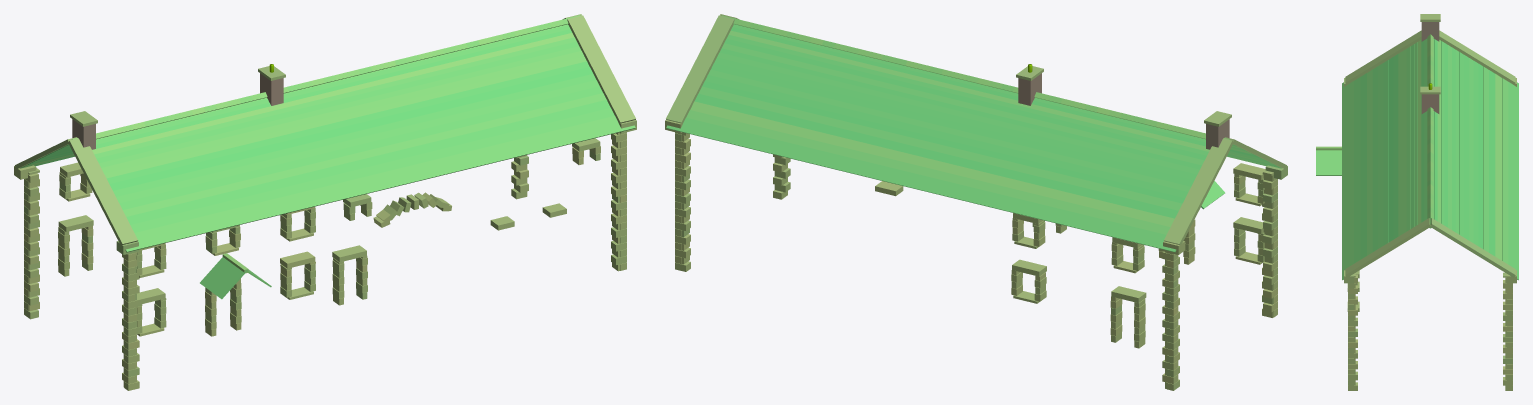
File: SM_Bld_062_Stone.glb
The picture shows the model from 3 angles, left to right: view 1: azimuth 30°, elevation 25°; view 2: azimuth 150°, elevation 25°; view 3: azimuth 270°, elevation 25°; orthographic projection. The views are drawn at different scales.
Visible parts, largest first — view 1: SM_Bld_062_Stone; view 2: SM_Bld_062_Stone; view 3: SM_Bld_062_Stone.
Part boxes in pixels (left/top/right/bottom): SM_Bld_062_Stone: left=14, top=14, right=636, bottom=390; SM_Bld_062_Stone: left=665, top=14, right=1287, bottom=390; SM_Bld_062_Stone: left=1316, top=14, right=1518, bottom=390.
Bounding box in the file's own units: 23.66 × 10.57 × 10.23.
